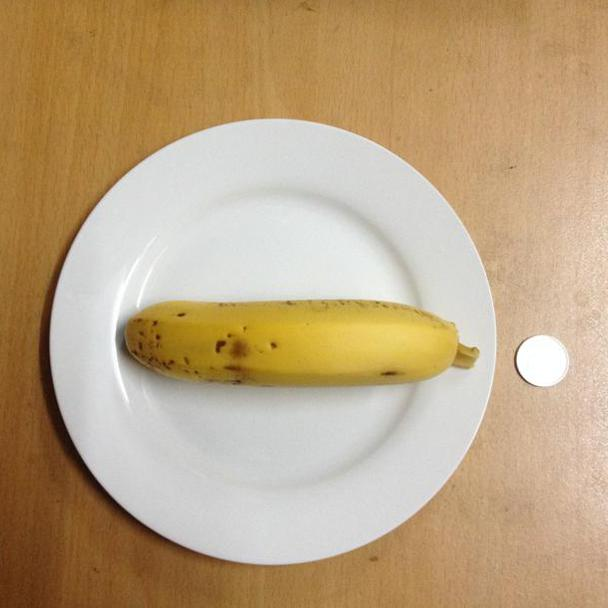banana: (117, 290, 485, 397)
